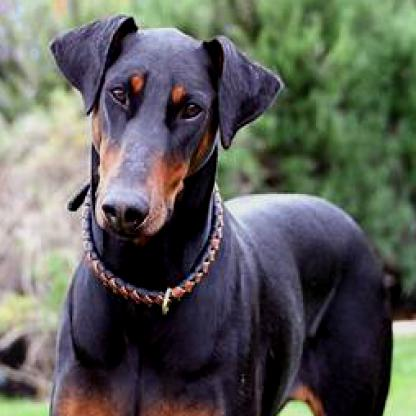dog: (49, 16, 396, 414)
